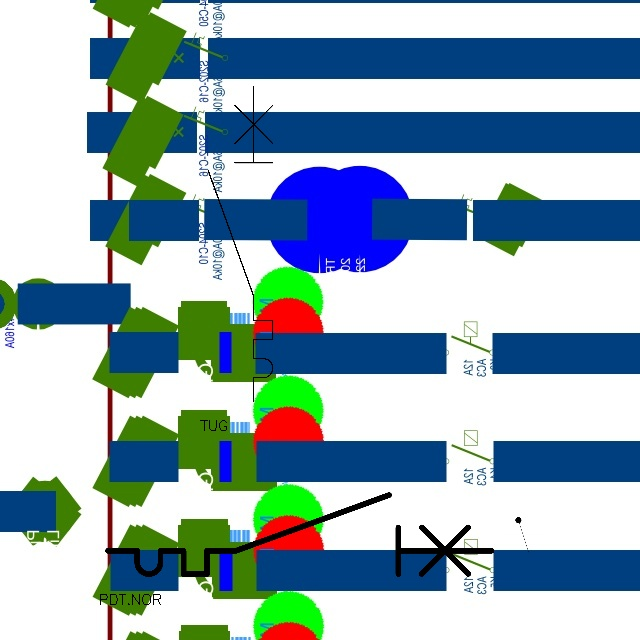interruptor_termomagnetico: (98, 485, 501, 584), (200, 78, 281, 410)
